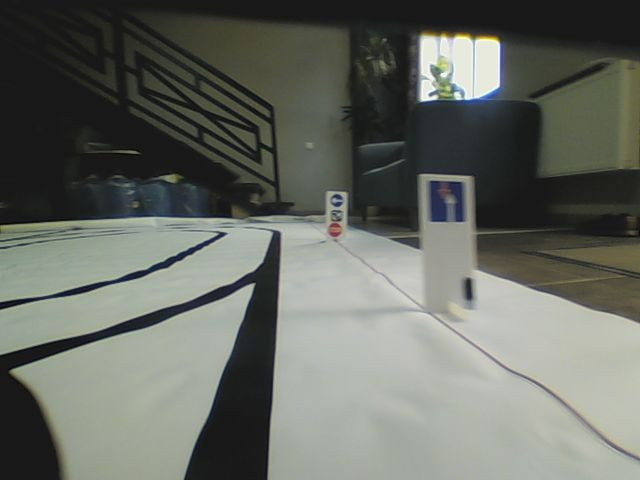priority_movement: (426, 178, 469, 225)
